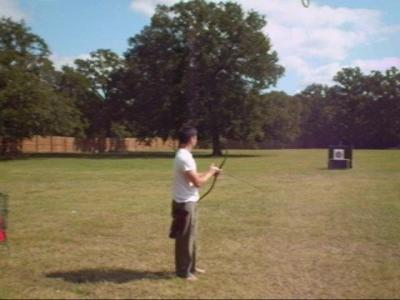person: (171, 127, 221, 282)
